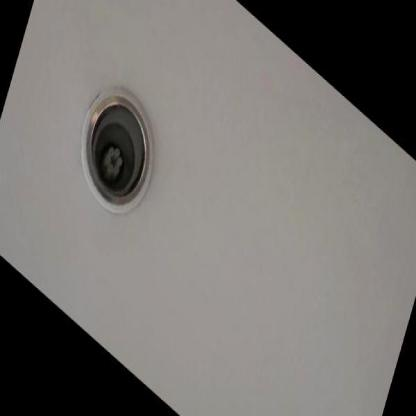light_off: (59, 28, 179, 244)
